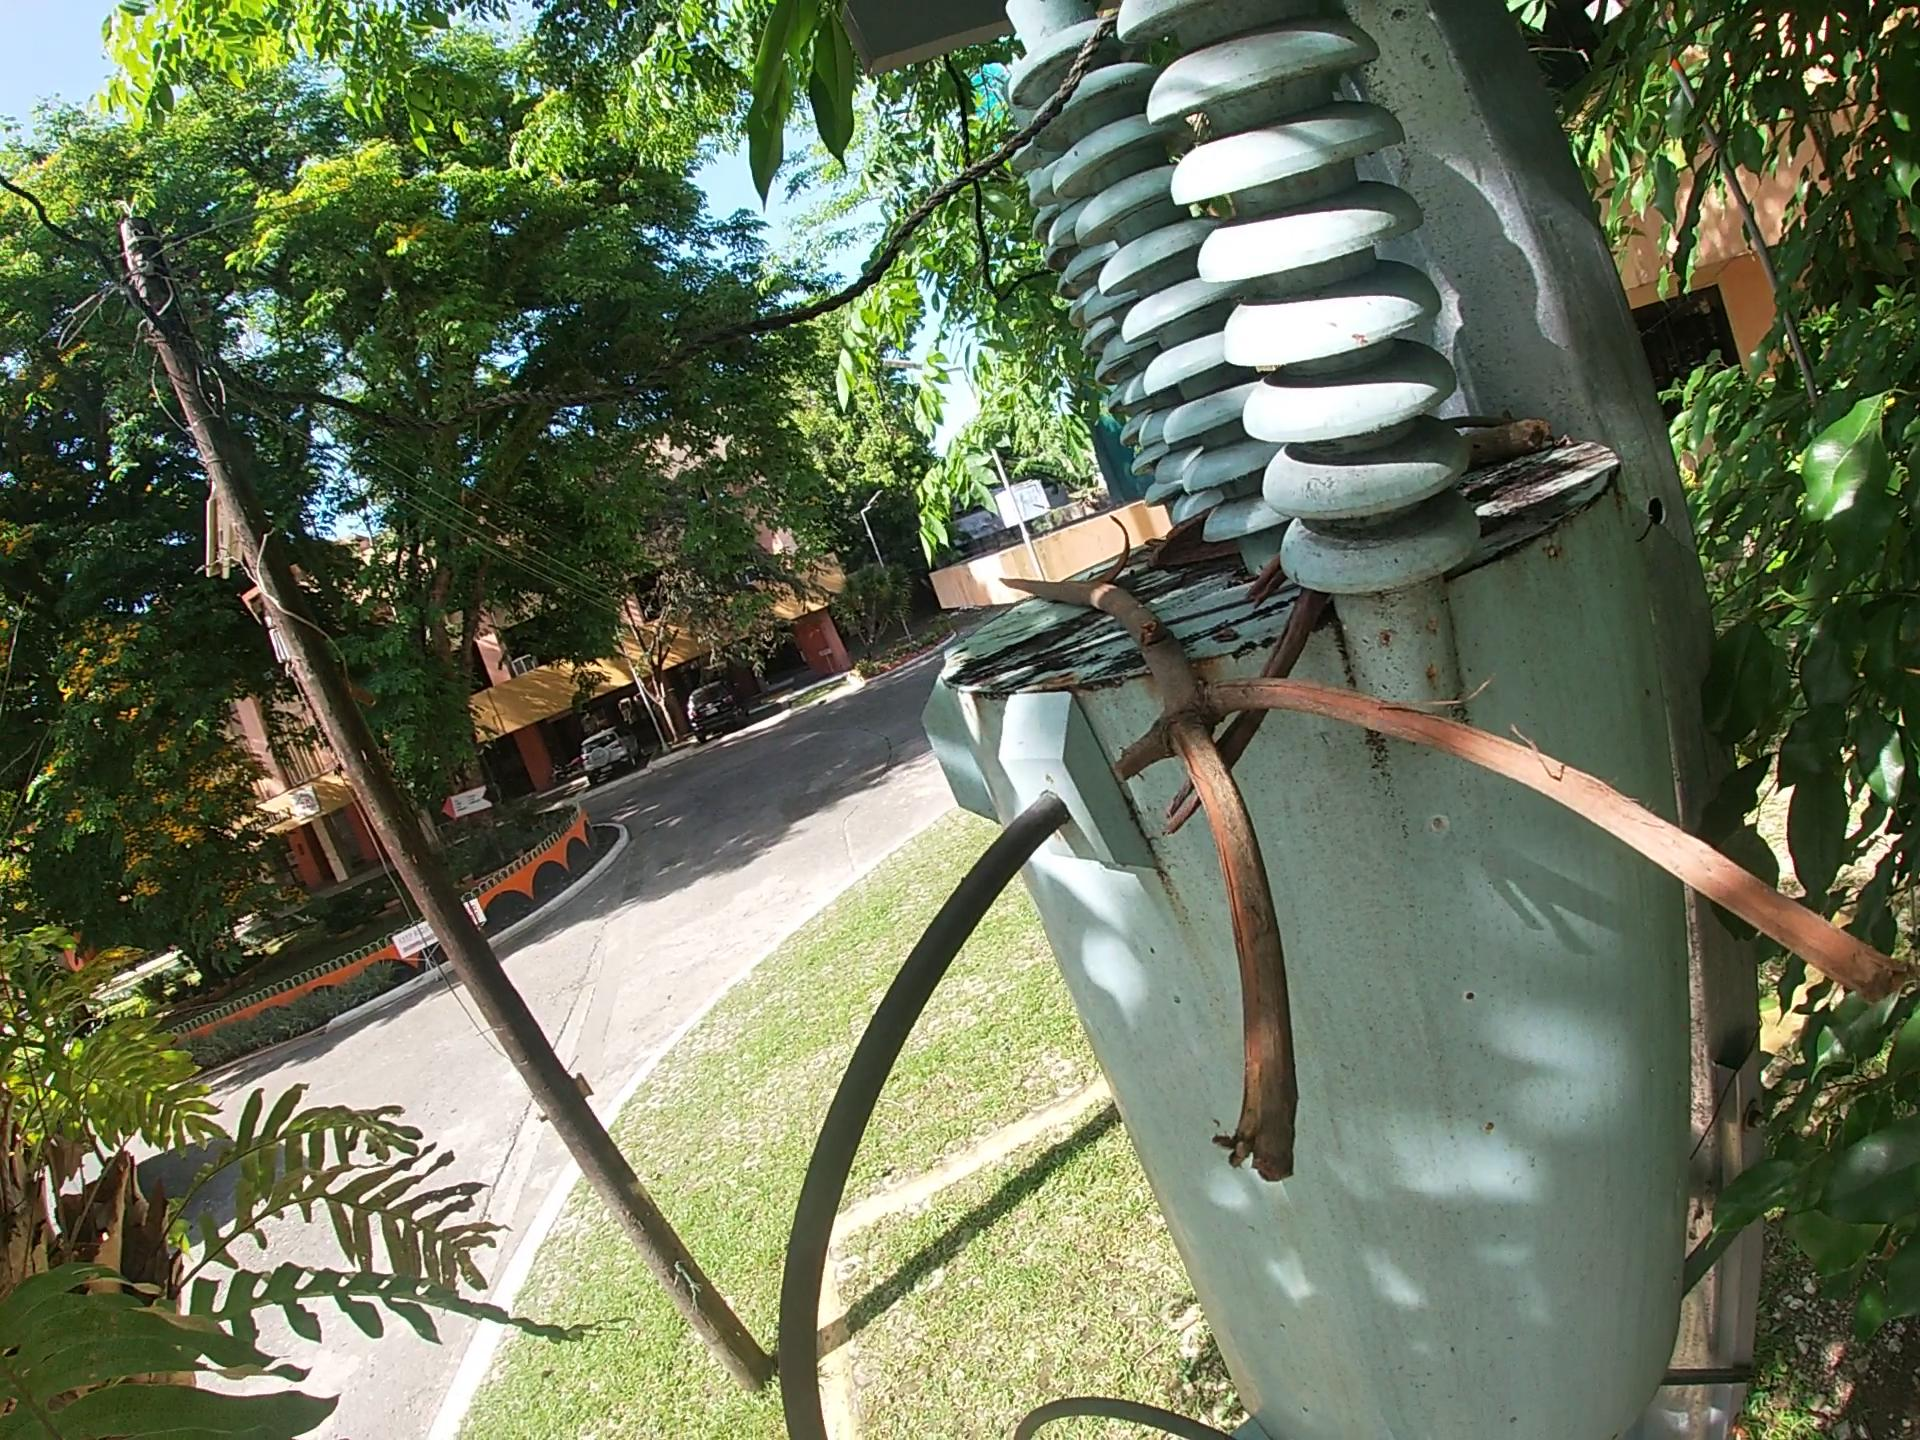mahogany fruit: (1143, 504, 1243, 576), (1093, 513, 1135, 588)
tree branch: (986, 566, 1912, 1187), (1154, 552, 1335, 849), (1442, 407, 1562, 475)
